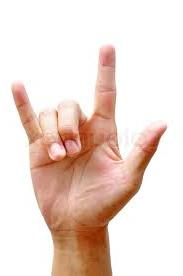Love-You: (8, 42, 172, 242)
